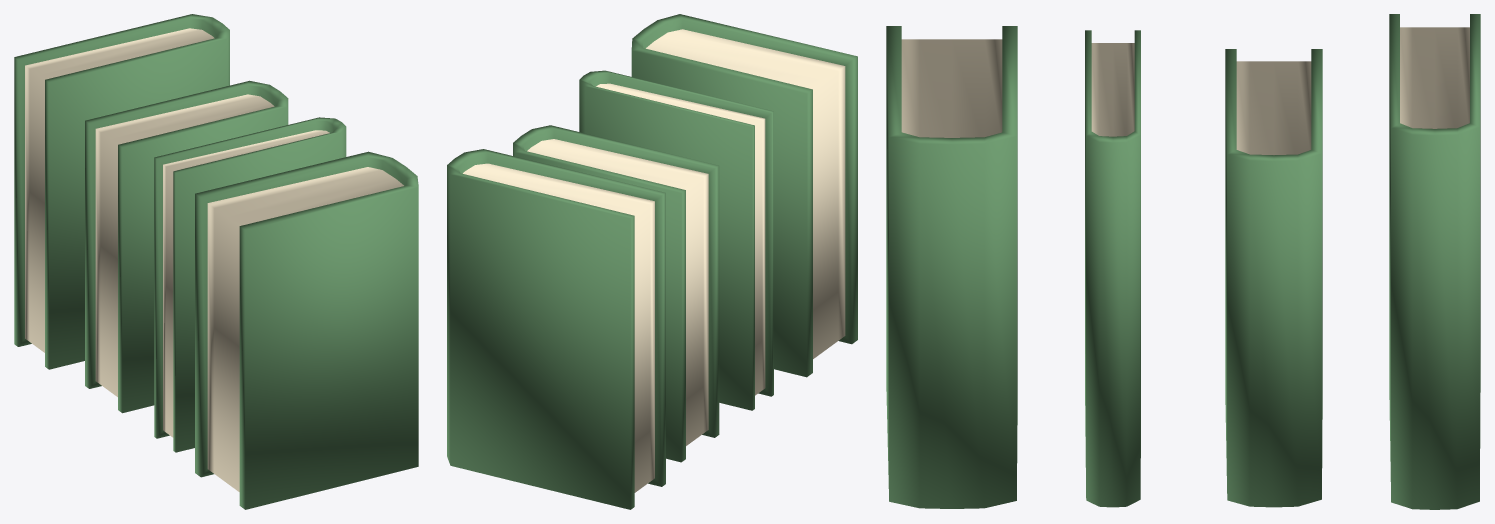
File: Books.fbx
The picture shows the model from 3 angles, left to right: view 1: azimuth 30°, elevation 25°; view 2: azimuth 150°, elevation 25°; view 3: azimuth 270°, elevation 25°; orthographic projection. The views are drawn at different scales.
Parts seen in each view (by area): view 1: Book01, Book04, Book03, Book02; view 2: Book04, Book01, Book02, Book03; view 3: Book01, Book04, Book03, Book02.
Part boxes in pixels (<box>): Book01: <box>195,151,418,509</box>; Book04: <box>14,14,229,369</box>; Book03: <box>85,80,288,413</box>; Book02: <box>154,117,346,452</box>; Book04: <box>447,149,665,509</box>; Book01: <box>631,14,857,377</box>; Book02: <box>579,70,773,410</box>; Book03: <box>513,125,719,462</box>; Book01: <box>886,26,1017,508</box>; Book04: <box>1389,14,1480,509</box>; Book03: <box>1225,49,1322,507</box>; Book02: <box>1085,30,1140,507</box>.
Bounding box in the file's own units: 35.75 × 51.35 × 73.83.
